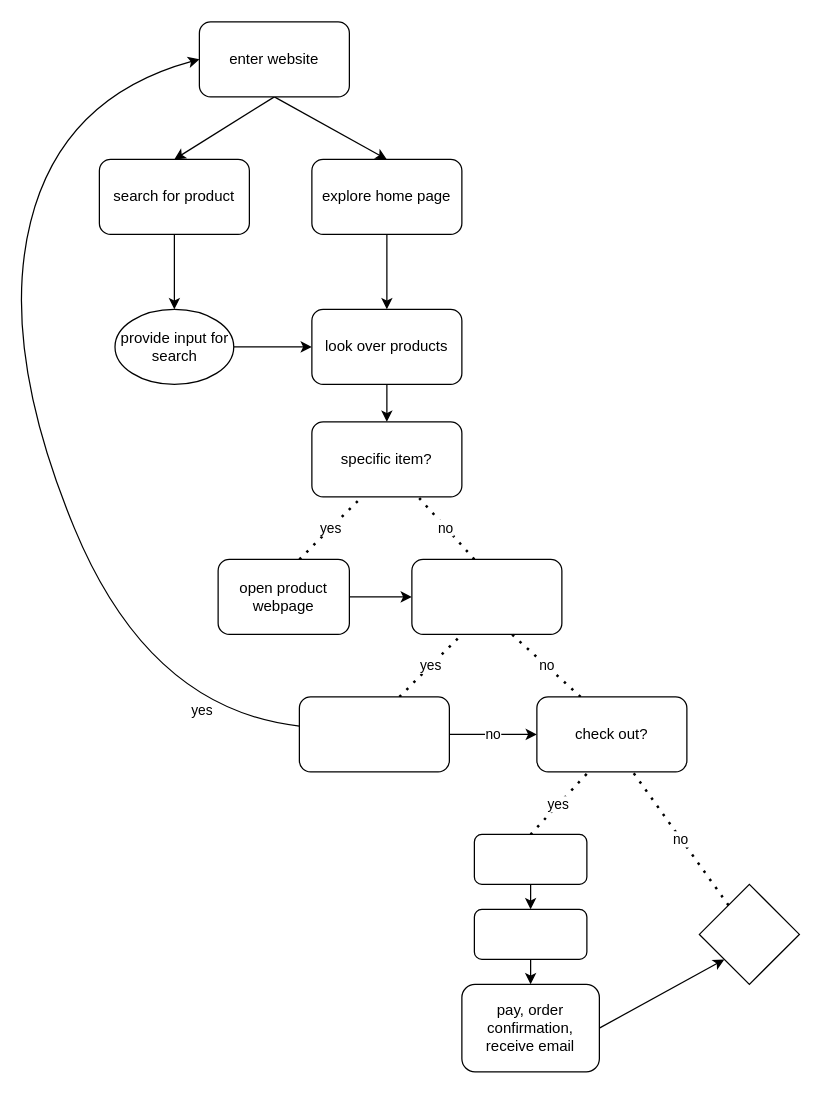
The diagram is 823 pixels wide and 1094 high, and some of its shapes have lost their labels. Here are the shapes that lost their labels. From the top down, the centre of each, then its label:
At (486,596): "add to cart?".
At (373,734): "continue shopping?".
At (530,858): "view cart".
At (530,933): "view payment".
At (748,933): "exit site".
